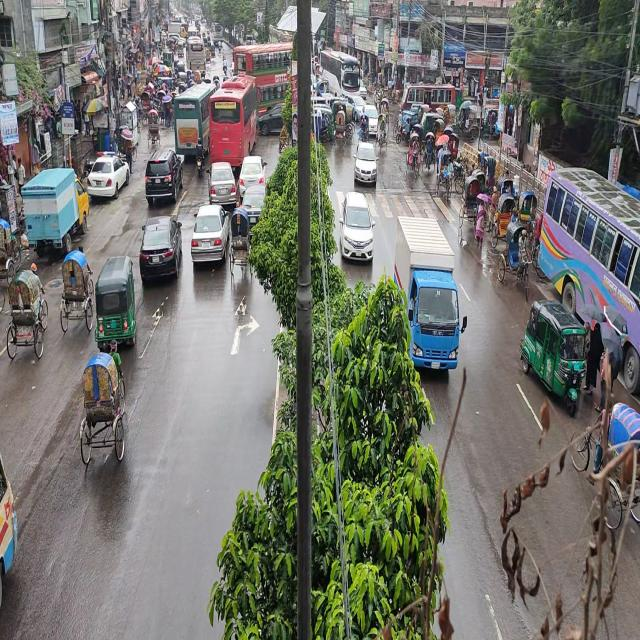black: (140, 218, 181, 282), (146, 146, 184, 208)
silver: (192, 204, 228, 274), (207, 162, 236, 208), (352, 137, 377, 188)
white: (87, 150, 131, 205), (341, 192, 374, 264), (239, 155, 265, 200)
